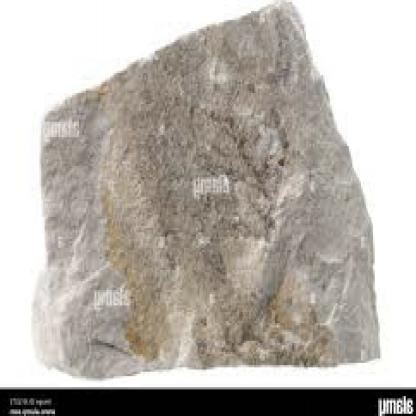Sedimentary_Chalk: (36, 33, 296, 365)
